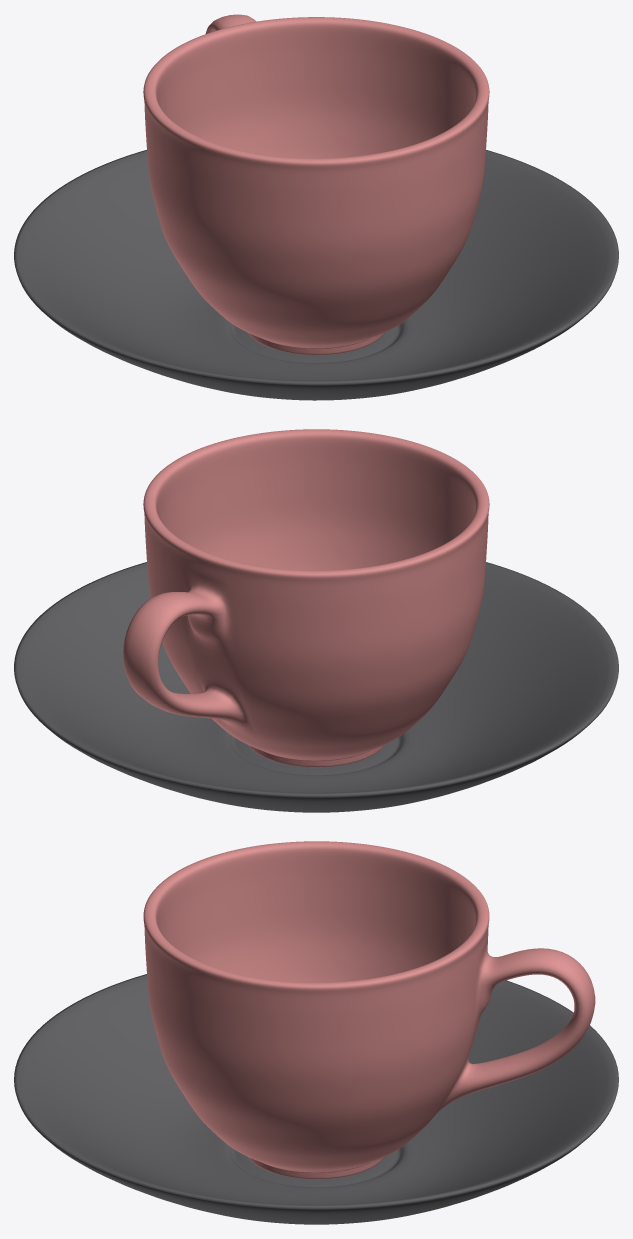
File: single-products-cup.glb
The picture shows the model from 3 angles, top to bottom: view 1: azimuth 30°, elevation 25°; view 2: azimuth 150°, elevation 25°; view 3: azimuth 270°, elevation 25°; orthographic projection.
Visible parts, largest first — view 1: CUP, NAALBAKI; view 2: CUP, NAALBAKI; view 3: CUP, NAALBAKI.
Boxes of the visible parts, <box> form: CUP: <box>143,14,489,354</box>; NAALBAKI: <box>14,150,618,400</box>; CUP: <box>123,429,489,767</box>; NAALBAKI: <box>14,562,618,812</box>; CUP: <box>143,841,595,1179</box>; NAALBAKI: <box>14,974,618,1224</box>.
Size of the model in its own units: 0.141 by 0.0645 by 0.141.
